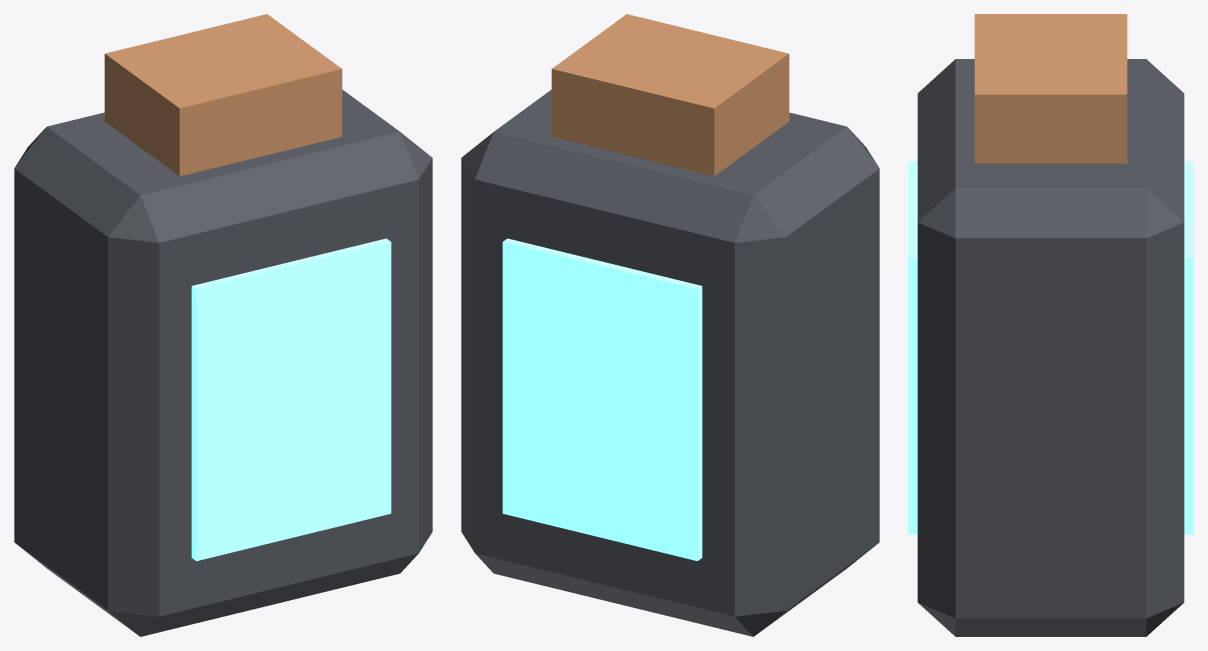
The model's file is item_ammo_cells.glb.
3 renders of one model, left to right at view 1: azimuth 30°, elevation 25°; view 2: azimuth 150°, elevation 25°; view 3: azimuth 270°, elevation 25°, orthographic.
Parts seen in each view (by area): view 1: ammo_cells; view 2: ammo_cells; view 3: ammo_cells.
Part boxes in pixels (<box>): ammo_cells: <box>14,14,432,636</box>; ammo_cells: <box>461,14,879,636</box>; ammo_cells: <box>908,14,1193,636</box>.
Bounding box in the file's own units: 0.2 × 0.3 × 0.15.
